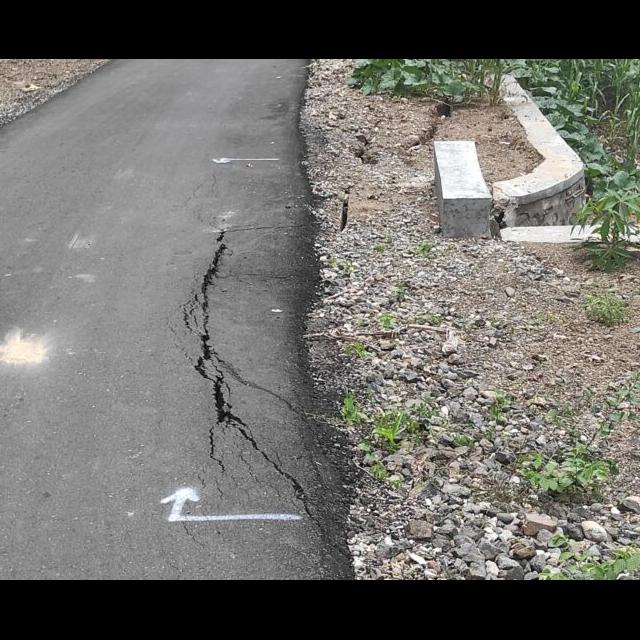retak_memanjang: (167, 220, 282, 513)
